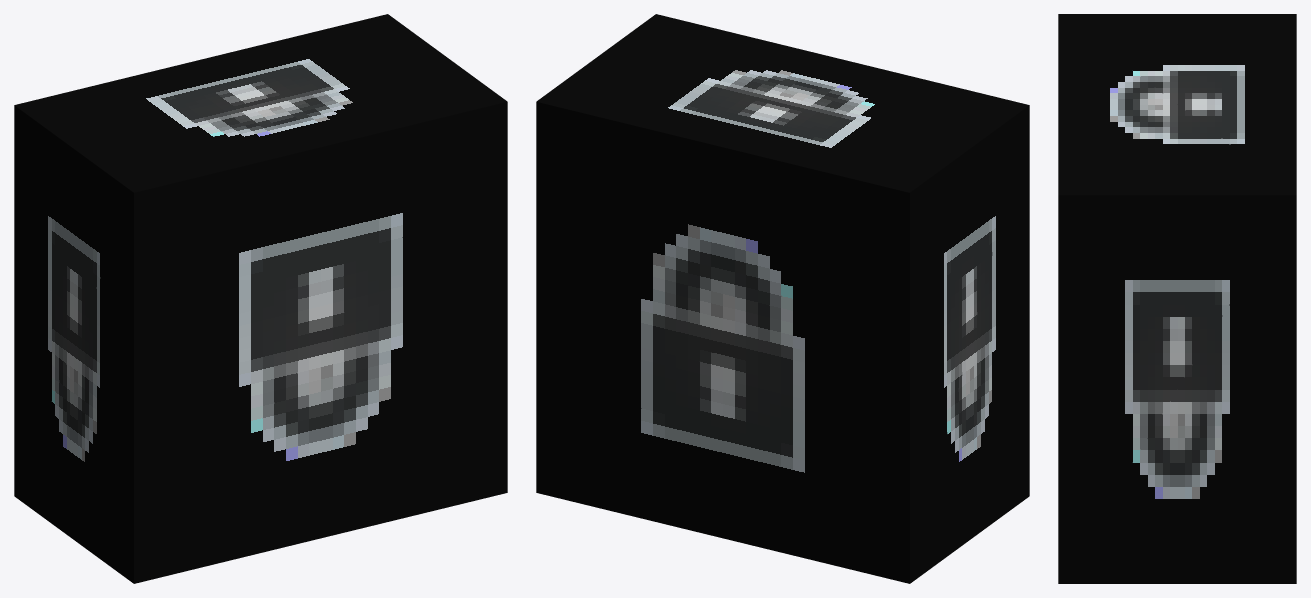
Rendered from InventoryItemPrefab.glb.
3 renders of one model, left to right at view 1: azimuth 30°, elevation 25°; view 2: azimuth 150°, elevation 25°; view 3: azimuth 270°, elevation 25°, orthographic.
Visible parts, largest first — view 1: Lock; view 2: Lock; view 3: Lock.
Part boxes in pixels (x1,y1,x2,y2): Lock: (14,14,507,583); Lock: (536,14,1029,583); Lock: (1058,14,1296,583).
Size of the model in its own units: 1.8 by 1.8 by 1.
Materials: 1 (1 with a texture image).
